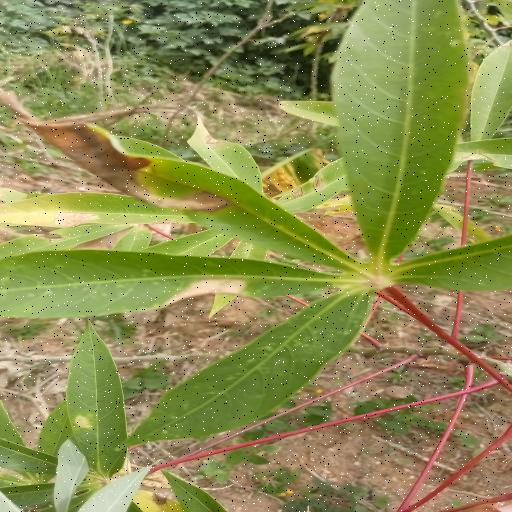Cassava_Root_Rot: (1, 0, 512, 445)
